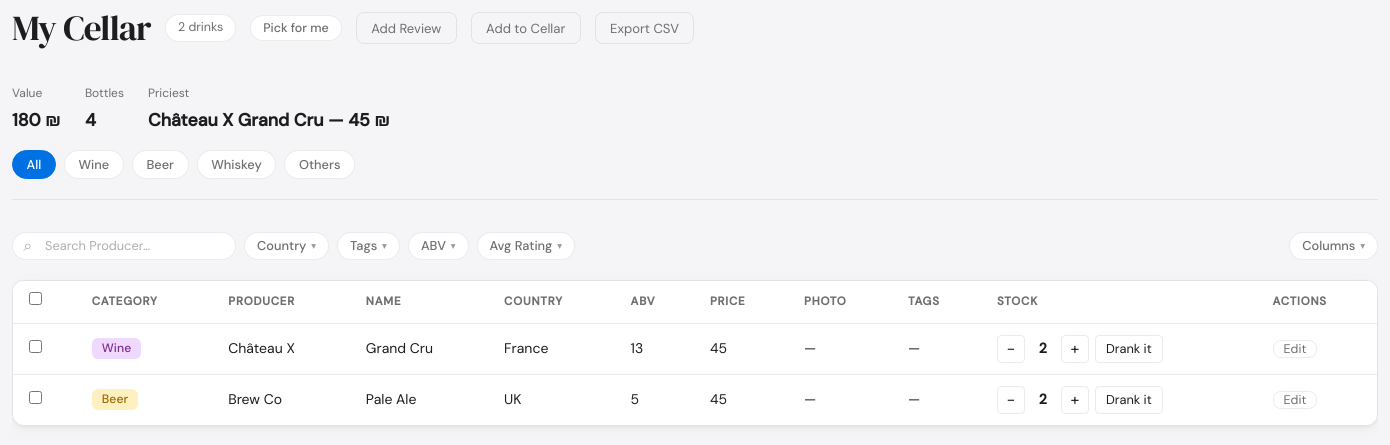
Test: clicking a country cell adds it to the filter
Expected: the text "Grand Cru" is shown, [350, 323, 488, 374]
Click the text "France": (526, 348) [504, 339, 548, 357]
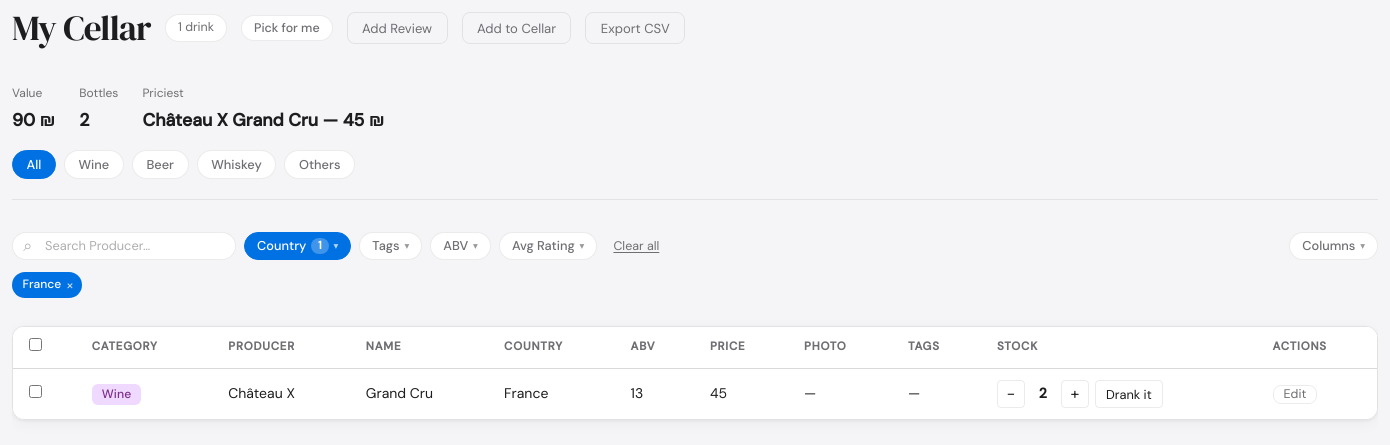
Expected: the element with class "filter-chip" shows "France", [22, 276, 61, 292]
Expected: the text "Pale Ale" is gone
